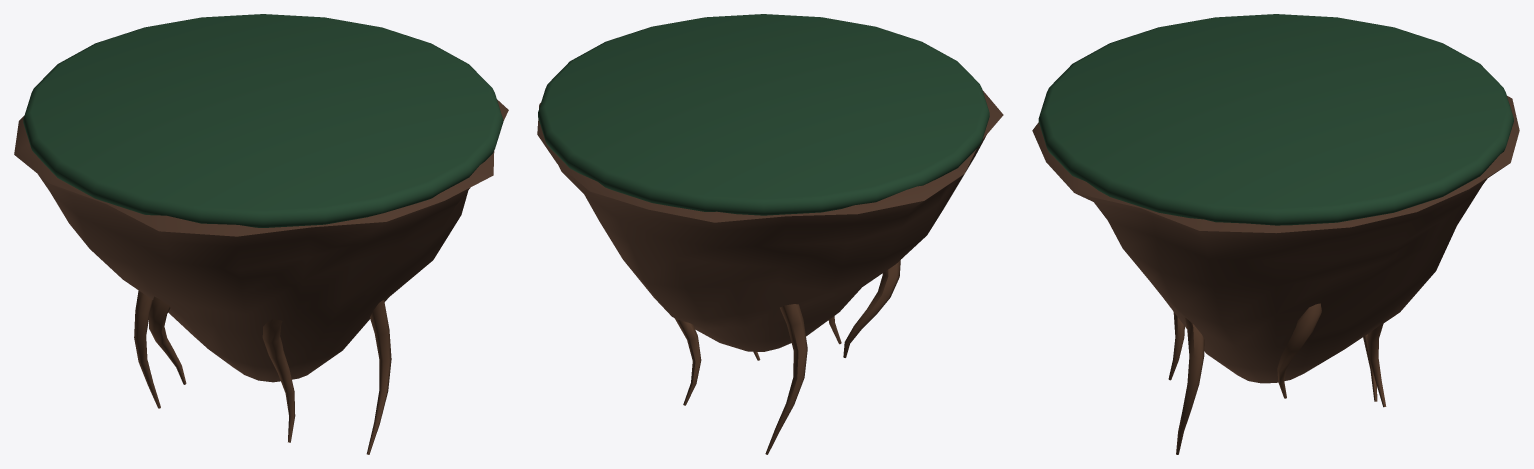
File: SueloIsla.fbx
3 views of the same model, side by side, from view 1: azimuth 30°, elevation 25°; view 2: azimuth 150°, elevation 25°; view 3: azimuth 270°, elevation 25° (orthographic). The views are drawn at different scales.
Parts seen in each view (by area): view 1: SueloIsla_Pasto, SueloIsla_Tierra, SueloIsla_Raices; view 2: SueloIsla_Pasto, SueloIsla_Tierra, SueloIsla_Raices; view 3: SueloIsla_Pasto, SueloIsla_Tierra, SueloIsla_Raices.
Boxes of the visible parts, x1,y1,x2,y2 form: SueloIsla_Pasto: (23,14,503,227); SueloIsla_Tierra: (14,99,508,382); SueloIsla_Raices: (134,290,391,454); SueloIsla_Pasto: (538,14,989,215); SueloIsla_Tierra: (537,90,1003,351); SueloIsla_Raices: (674,260,900,454); SueloIsla_Pasto: (1038,14,1513,225); SueloIsla_Tierra: (1032,96,1519,383); SueloIsla_Raices: (1168,303,1386,454).
Size of the model in its own units: 12.7 by 9.11 by 12.72.
